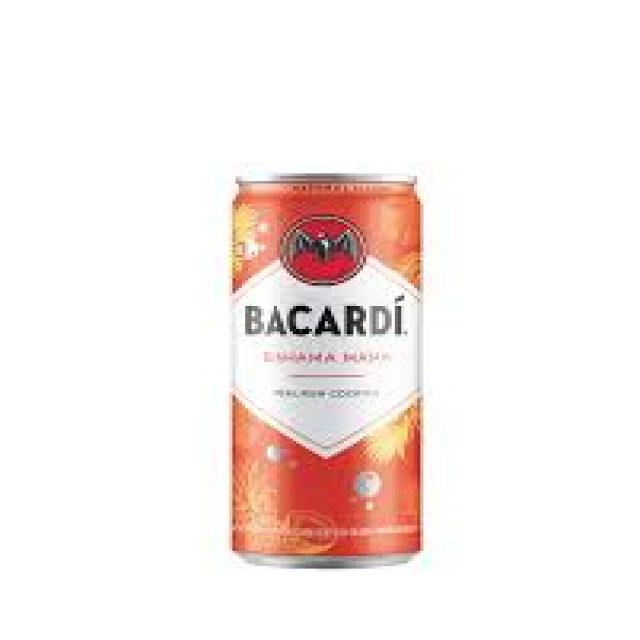Cans: (213, 161, 440, 578)
